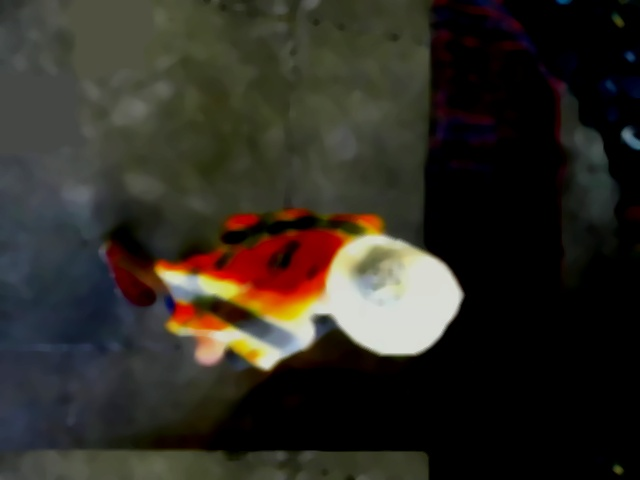eight: (358, 256, 406, 302)
